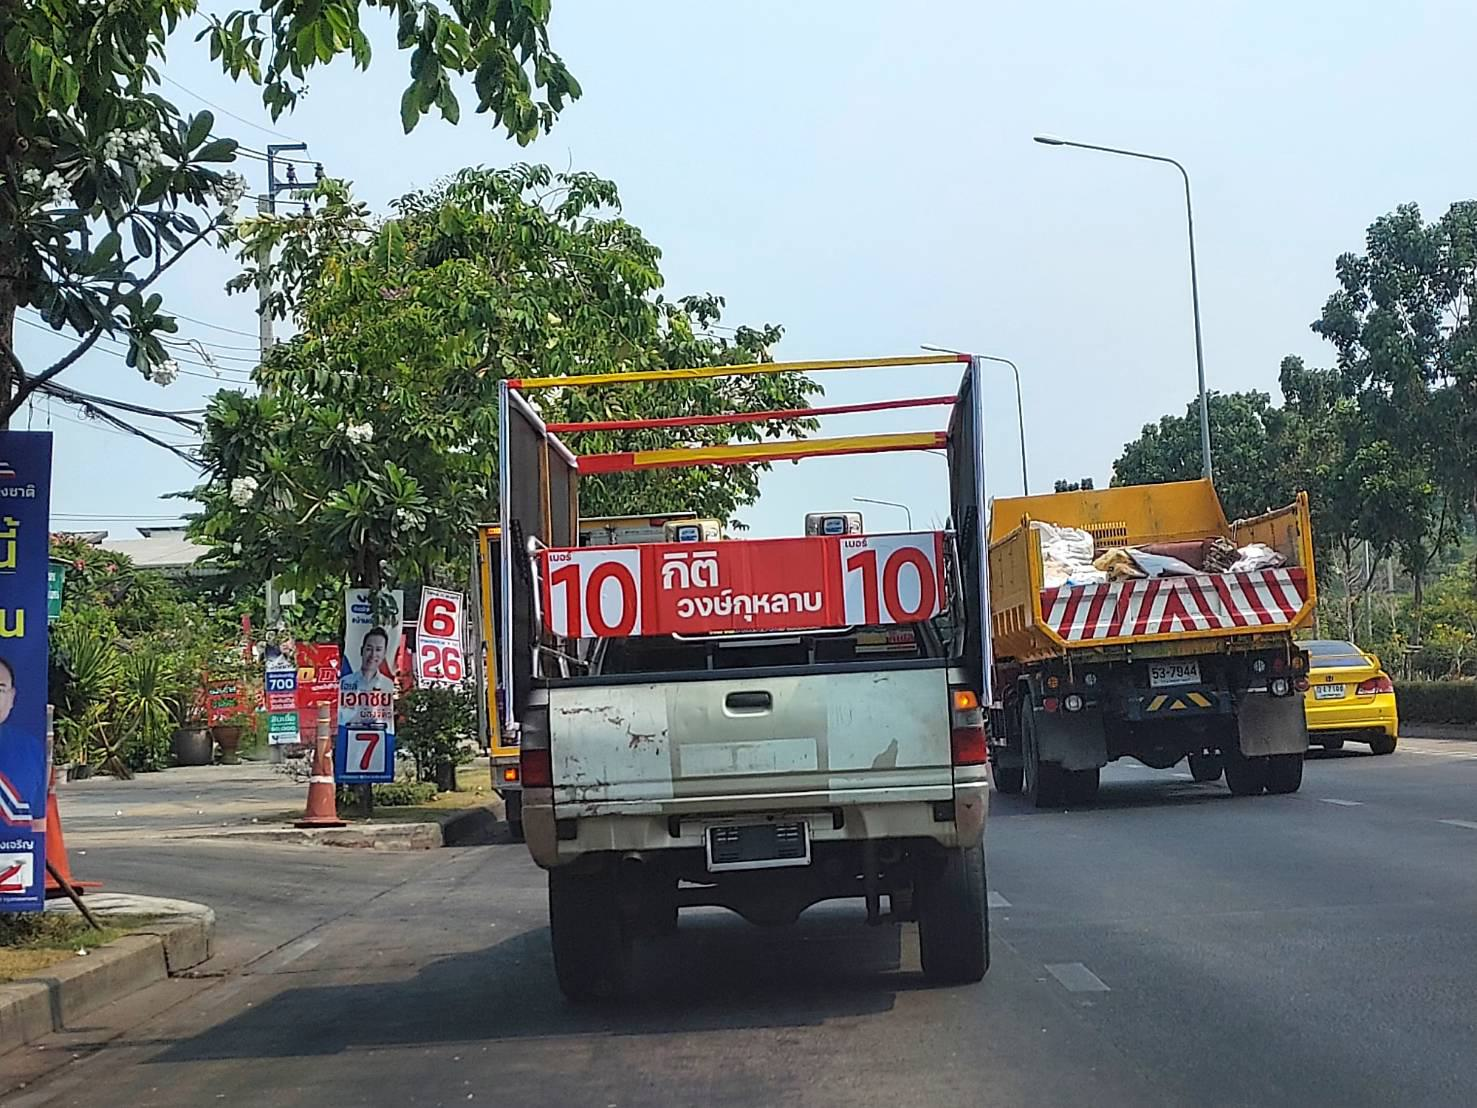Banner: (530, 537, 959, 646), (0, 427, 54, 929), (352, 585, 402, 787)
